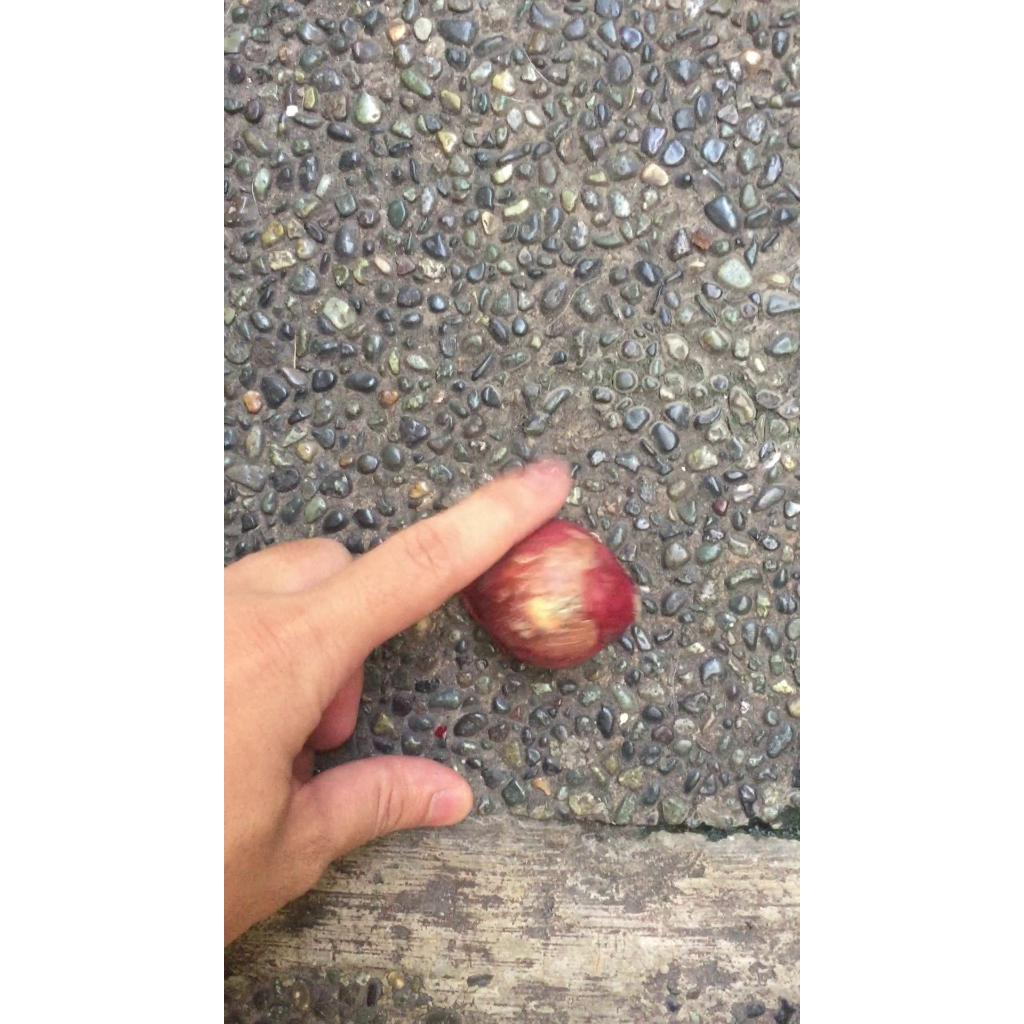Onion: (460, 520, 636, 670)
